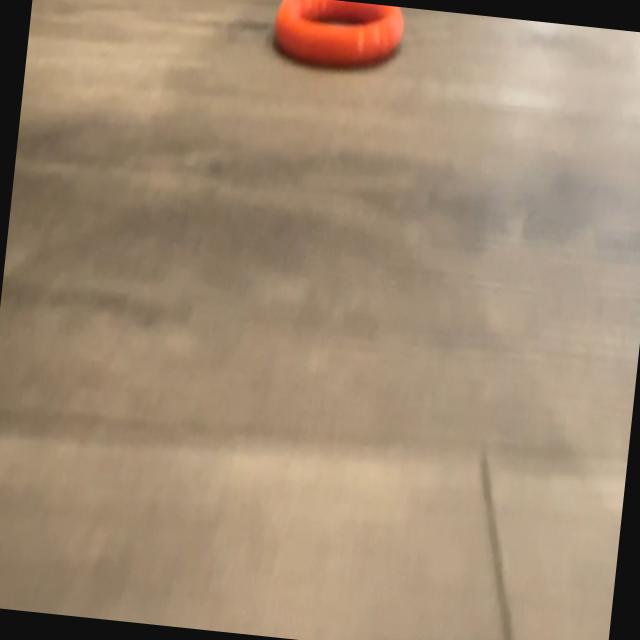note: (270, 0, 405, 70)
